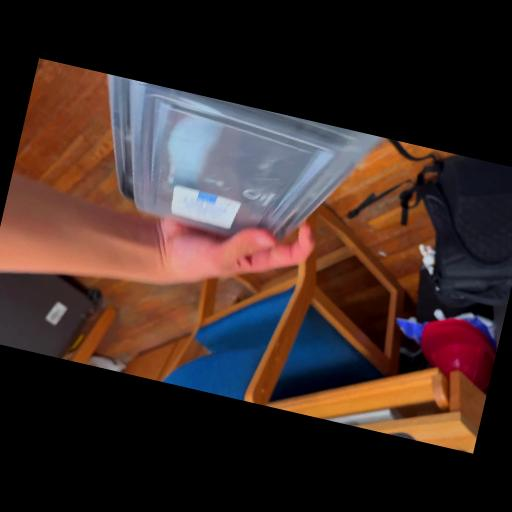rigid_plastic_container: (74, 74, 380, 264)
